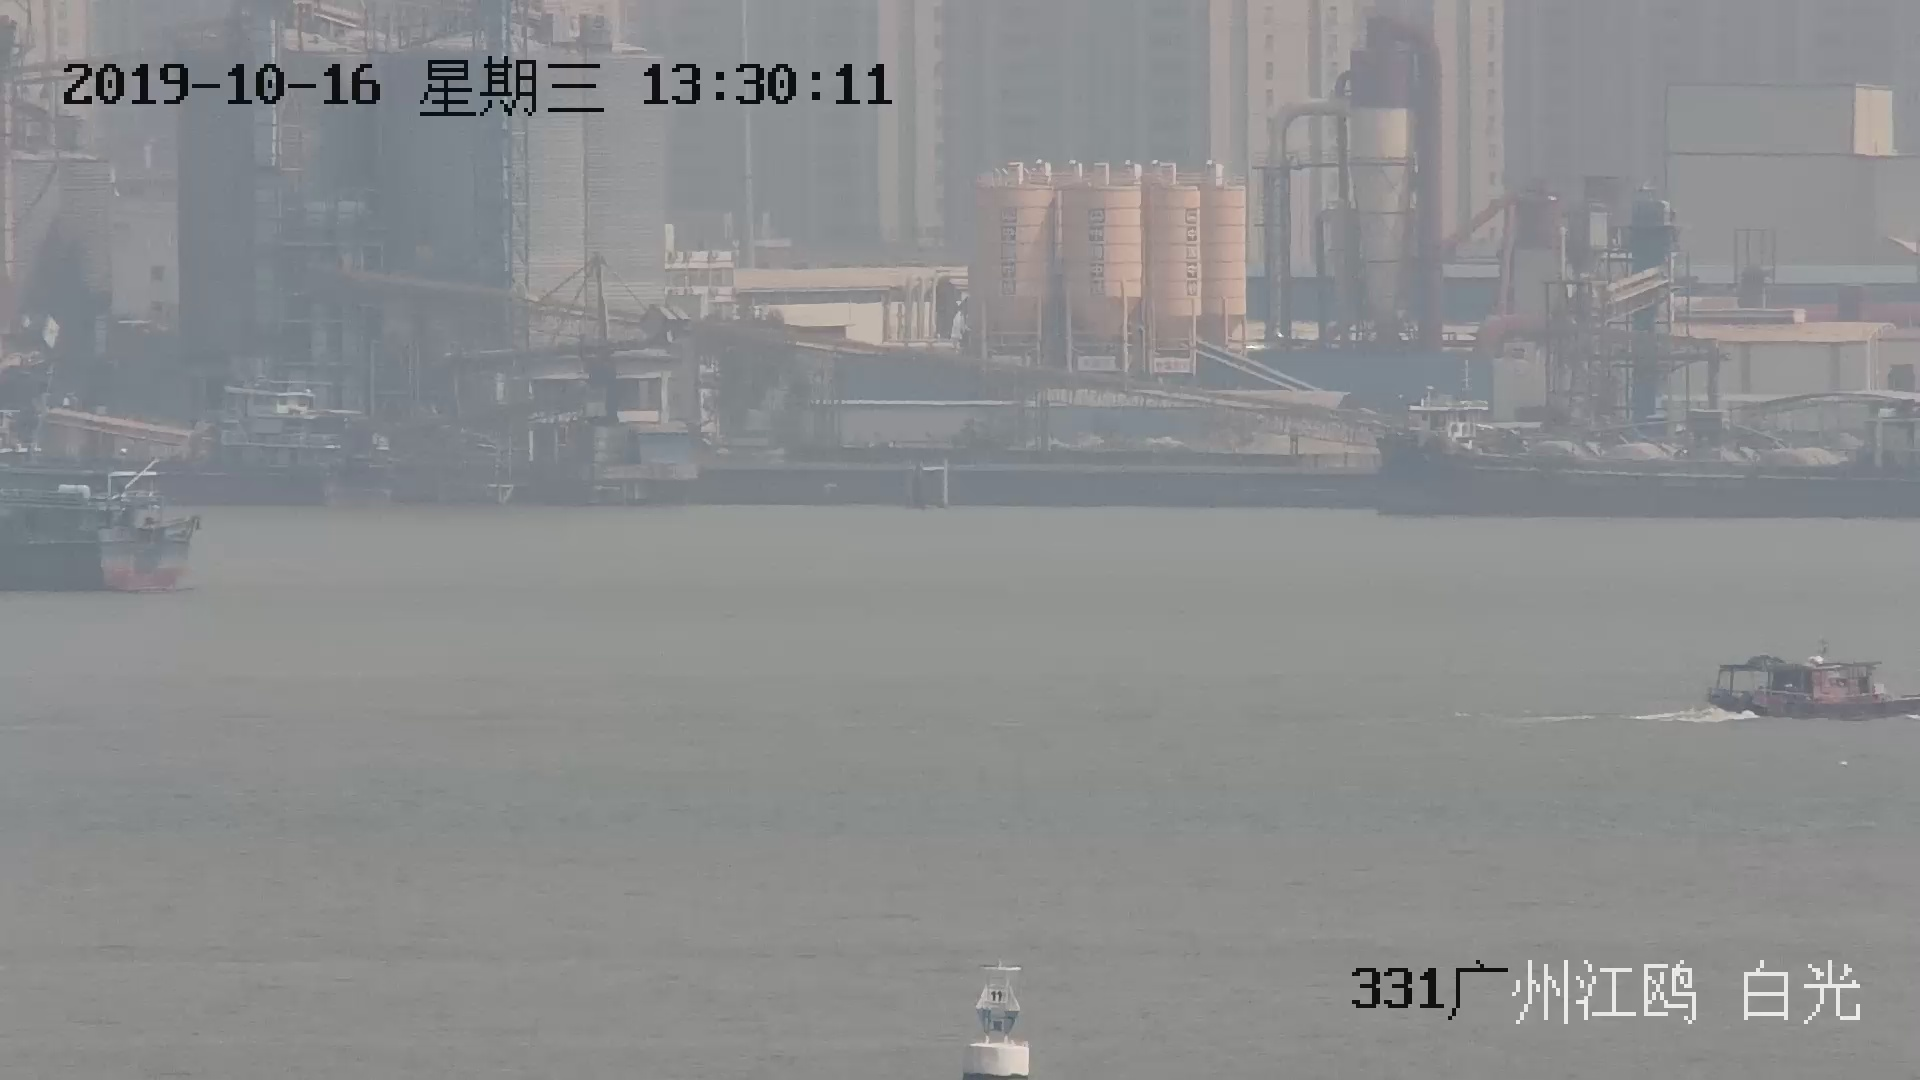ship: (3, 440, 208, 595), (1710, 645, 1904, 724)
